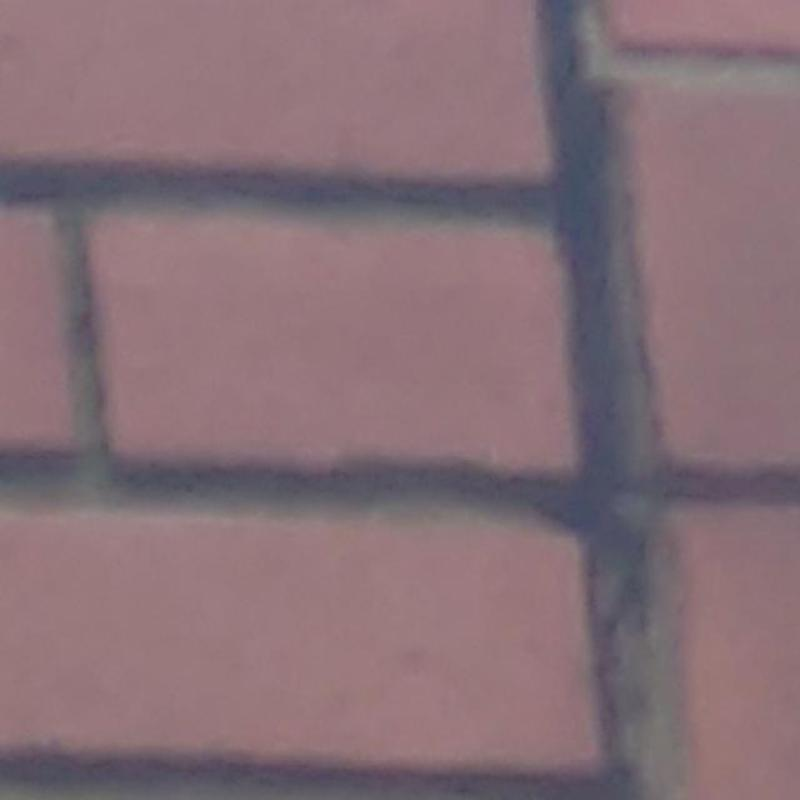pothole: (541, 0, 675, 800)
